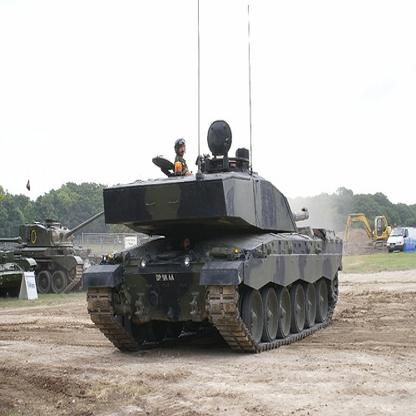Tank: (90, 129, 347, 360), (1, 199, 122, 312)
